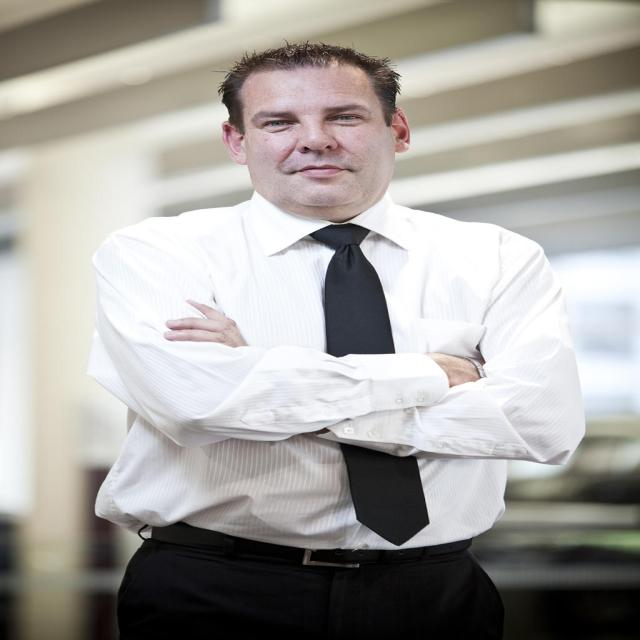Face: (208, 69, 409, 212)
